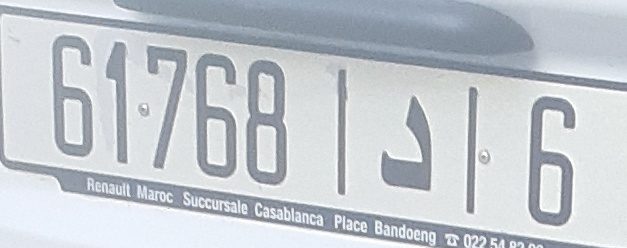1: (102, 39, 130, 164)
6: (526, 93, 577, 227), (194, 50, 240, 180), (50, 33, 97, 160)
7: (145, 43, 188, 170)
8: (244, 59, 291, 189)
d: (378, 92, 434, 195)
